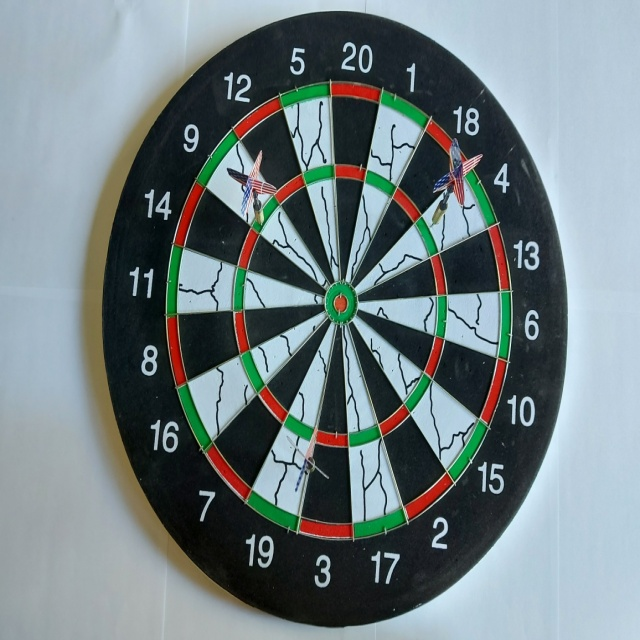Dart: (427, 135, 484, 233), (224, 146, 281, 233), (282, 421, 335, 490)
